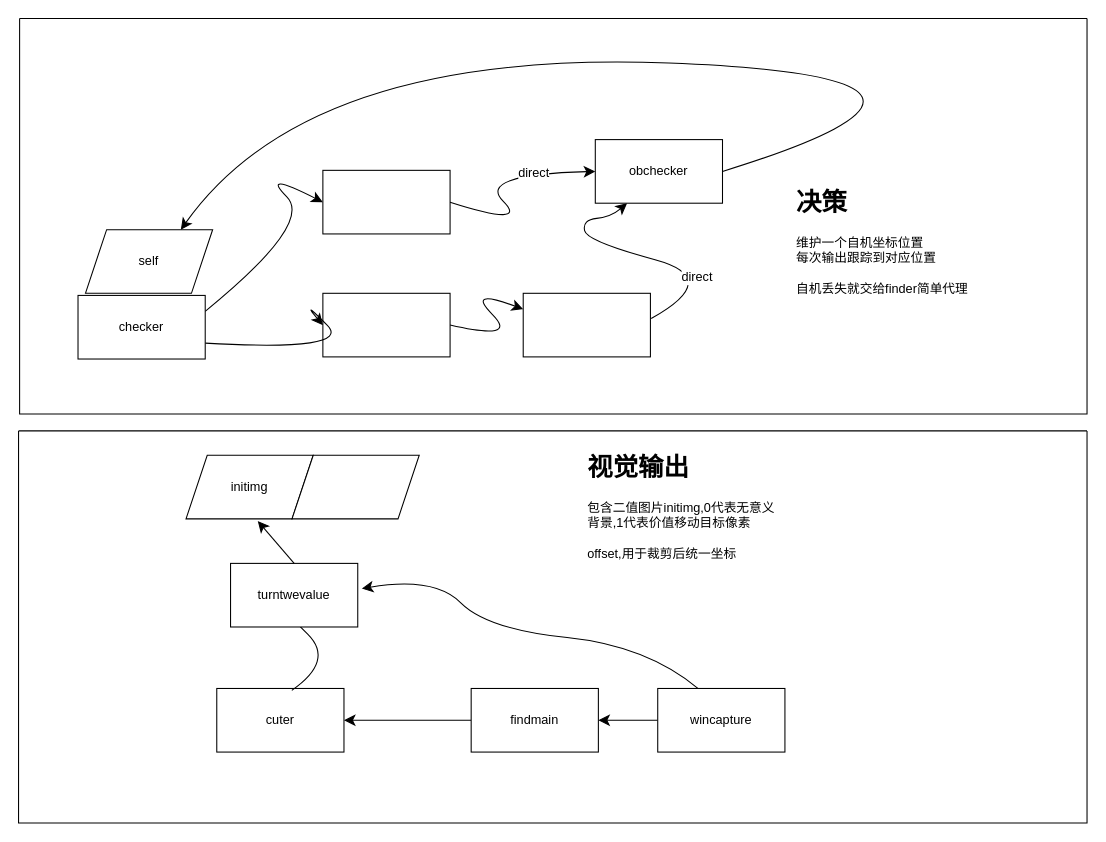
Image size: 1106x842. Some labels were removed from this diagram. Each missing label, with the centre of its shape:
"agent" belongs at point (586, 324).
"finder" belongs at point (386, 201).
"offset" belongs at point (355, 486).
"pileframe" belongs at point (386, 324).
